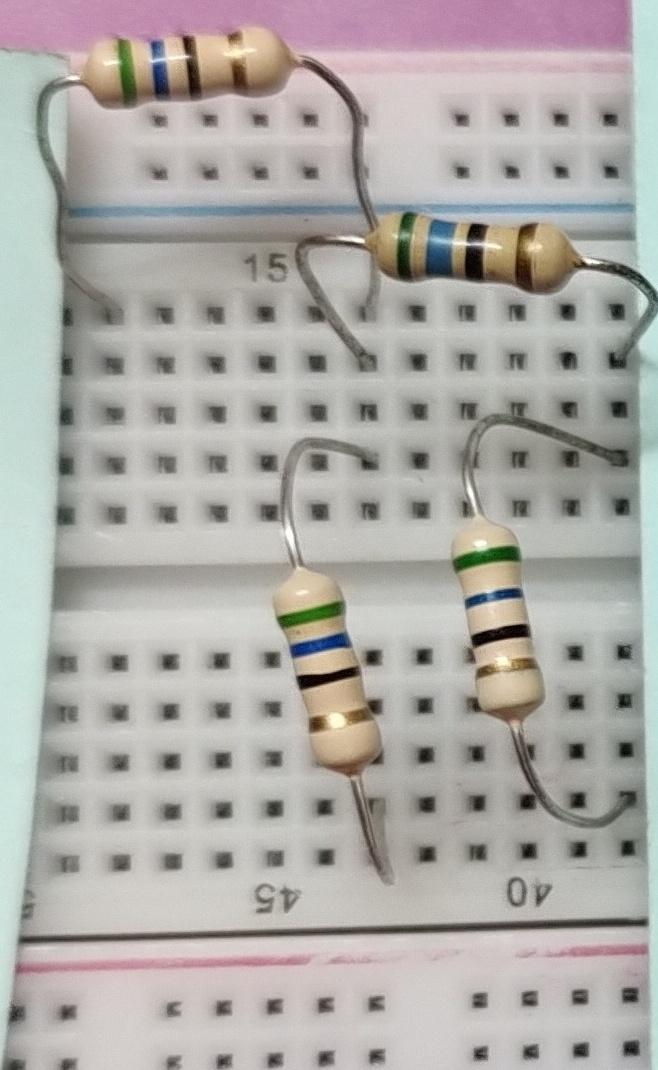resistor: (50, 15, 323, 142), (438, 490, 570, 745), (360, 192, 595, 332), (258, 572, 403, 778)
